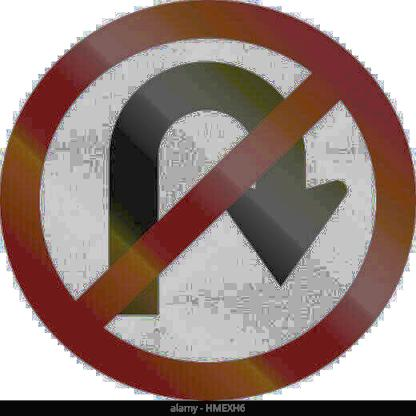No U-turn: (4, 8, 412, 398)
